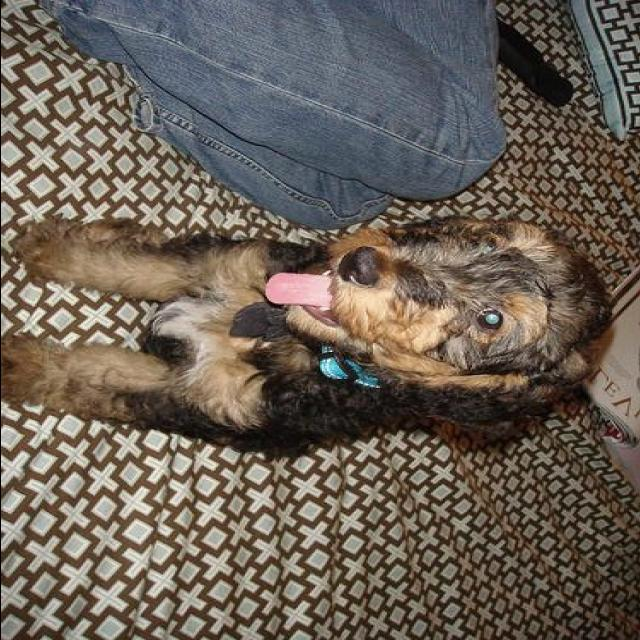airedale: (8, 216, 618, 459)
